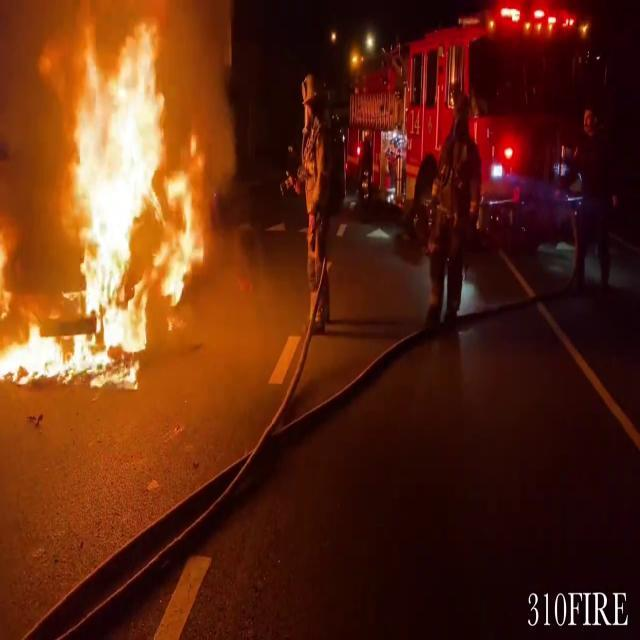Fire: (0, 3, 212, 387)
